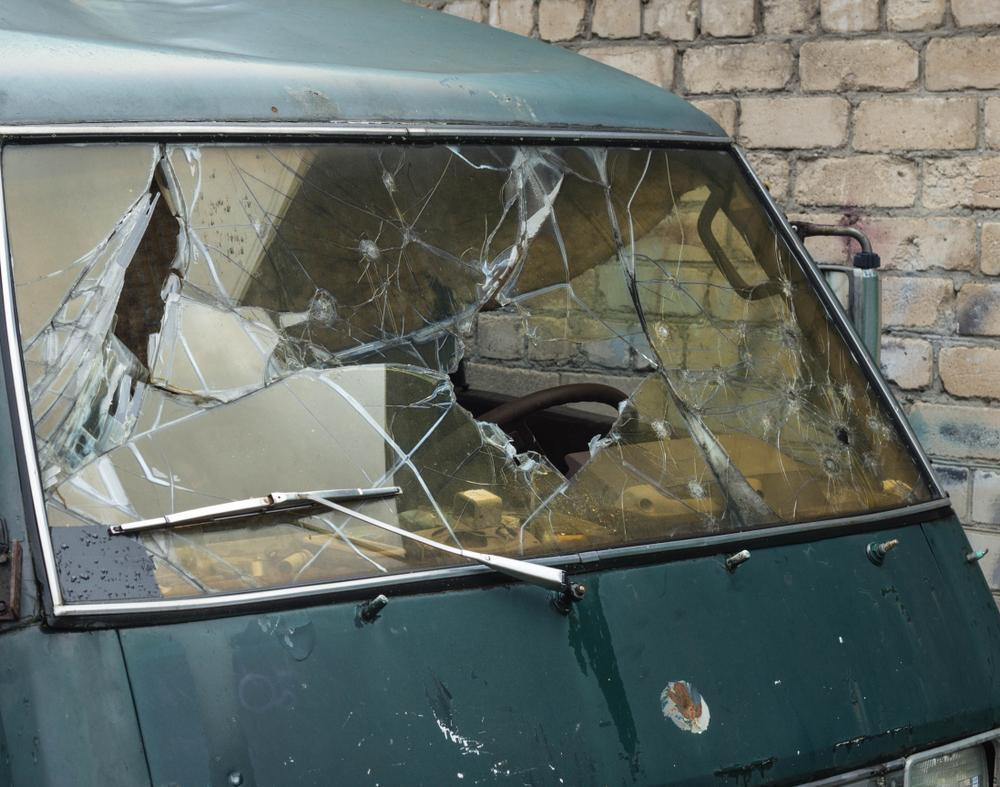dent: (0, 0, 580, 74)
glass shatter: (3, 139, 943, 603)
